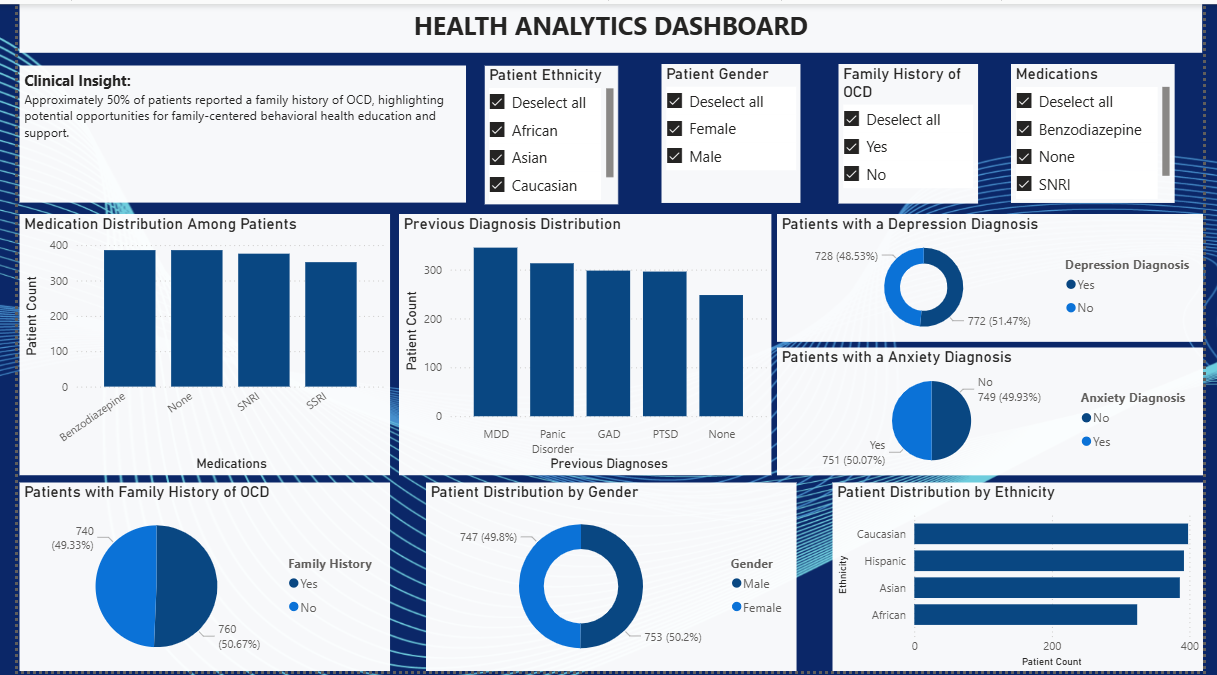

What the dashboard file says about the page in this screenshot:
{"tool":"powerbi","page":{"name":"Clinical & Intervention Insights","canvas":[1280,720],"ordinal":1},"visuals":[{"type":"textbox","box":[2,0,1276.5,52.9],"z":0},{"type":"donutChart","title":"Patient Distribution by Gender","fields":{"Category":["ocd_patient_dataset.Gender"],"Y":["CountNonNull(ocd_patient_dataset.Patient_ID)"]},"box":[440,516,400,204],"z":1000},{"type":"clusteredColumnChart","title":"Medication Distribution Among Patients","fields":{"Category":["ocd_patient_dataset.Medications"],"Y":["CountNonNull(ocd_patient_dataset.Patient_ID)"]},"box":[2,226,400,282],"z":2000},{"type":"barChart","title":"Patient Distribution by Ethnicity","fields":{"Category":["ocd_patient_dataset.Ethnicity"],"Y":["CountNonNull(ocd_patient_dataset.Patient_ID)"]},"box":[880,516,400,204],"z":3000},{"type":"pieChart","title":"Patients with Family History of OCD","fields":{"Category":["ocd_patient_dataset.Family History Label"],"Y":["CountNonNull(ocd_patient_dataset.Patient_ID)"]},"box":[2,516,400,204],"z":4000},{"type":"listSlicer","fields":{"Values":["ocd_patient_dataset.Ethnicity"]},"box":[503.3,66,144,150],"z":5000},{"type":"listSlicer","fields":{"Values":["ocd_patient_dataset.Medications"]},"box":[1071.3,64,176.7,150],"z":6000},{"type":"listSlicer","title":"Family History of OCD","fields":{"Values":["ocd_patient_dataset.Family History Label"]},"box":[885.3,65,151,151],"z":7000},{"type":"listSlicer","fields":{"Values":["ocd_patient_dataset.Gender"]},"box":[695.3,64,150,150],"z":8000},{"type":"textbox","box":[2,66,482,148],"z":9000},{"type":"donutChart","title":"Patients with a Depression Diagnosis","fields":{"Category":["ocd_patient_dataset.Depression Diagnosis Label"],"Y":["CountNonNull(ocd_patient_dataset.Patient_ID)"]},"box":[820,226,460,138],"z":10000},{"type":"pieChart","title":"Patients with a Anxiety Diagnosis","fields":{"Category":["ocd_patient_dataset.Anxiety Diagnosis"],"Y":["CountNonNull(ocd_patient_dataset.Patient_ID)"]},"box":[820,370,460,138],"z":11000},{"type":"clusteredColumnChart","title":"Previous Diagnosis Distribution","fields":{"Category":["ocd_patient_dataset.Previous_Diagnoses"],"Y":["CountNonNull(ocd_patient_dataset.Patient_ID)"]},"box":[412,226,402,282],"z":12000}]}

Visuals, with their boxes in screenshot pixels (x1, y1, x2, y2), scaled from the page's 1280x720 canvas onto the 1217x675 screenshot:
textbox: bbox=(2, 0, 1216, 50)
"Patient Distribution by Gender" donutChart: bbox=(418, 484, 799, 674)
"Medication Distribution Among Patients" clusteredColumnChart: bbox=(2, 212, 382, 476)
"Patient Distribution by Ethnicity" barChart: bbox=(837, 484, 1216, 674)
"Patients with Family History of OCD" pieChart: bbox=(2, 484, 382, 674)
listSlicer - ocd_patient_dataset.Ethnicity: bbox=(479, 62, 615, 202)
listSlicer - ocd_patient_dataset.Medications: bbox=(1019, 60, 1187, 201)
"Family History of OCD" listSlicer: bbox=(842, 61, 985, 202)
listSlicer - ocd_patient_dataset.Gender: bbox=(661, 60, 804, 201)
textbox: bbox=(2, 62, 460, 201)
"Patients with a Depression Diagnosis" donutChart: bbox=(780, 212, 1216, 341)
"Patients with a Anxiety Diagnosis" pieChart: bbox=(780, 347, 1216, 476)
"Previous Diagnosis Distribution" clusteredColumnChart: bbox=(392, 212, 774, 476)
